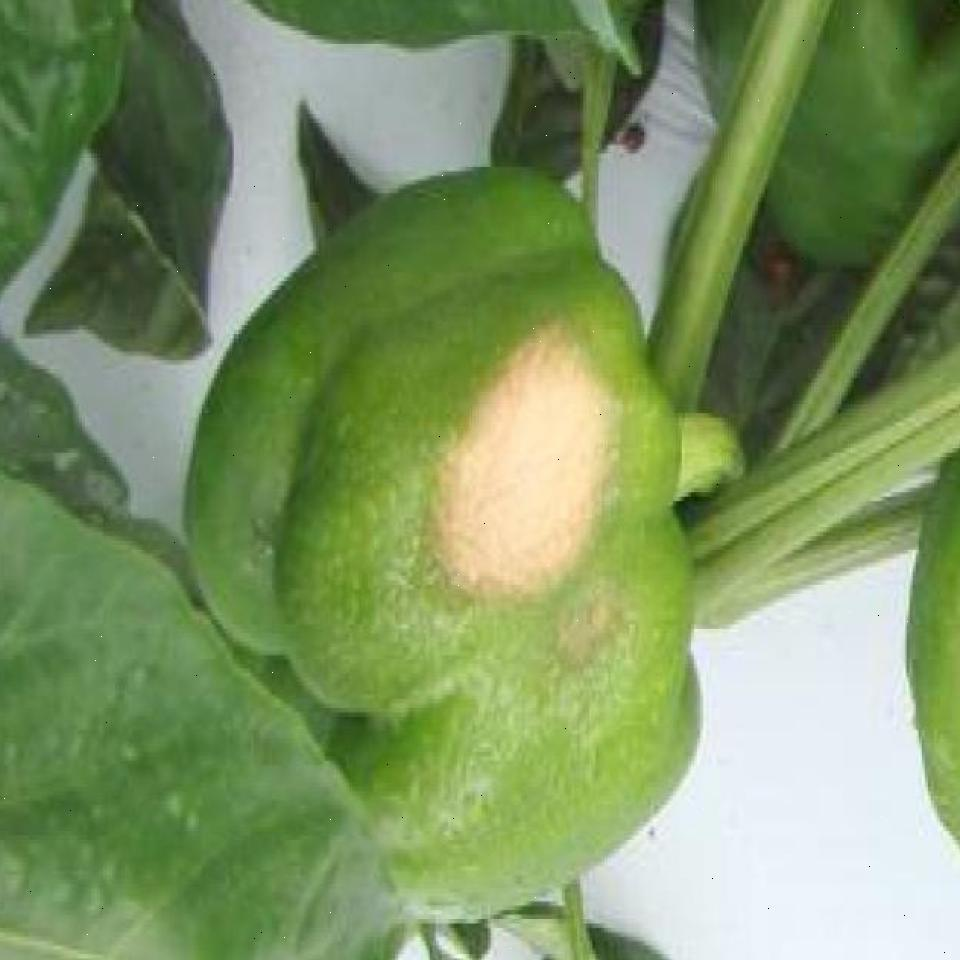Sunscald: (436, 294, 636, 668)
